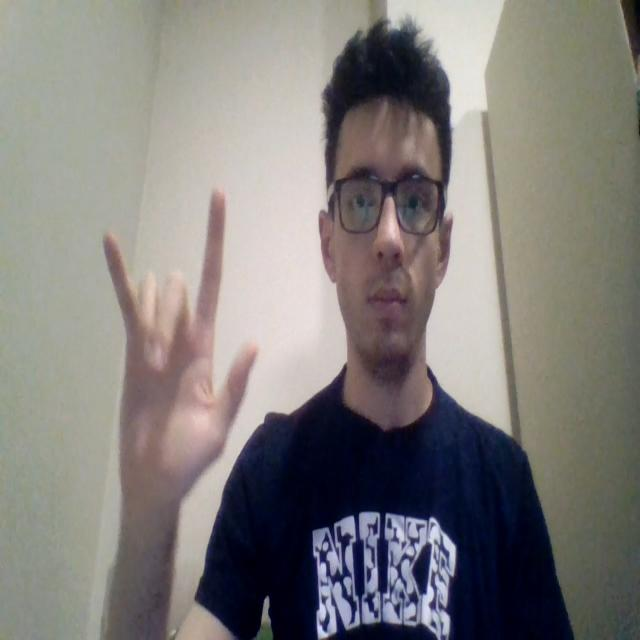iloveyou: (101, 186, 259, 540)
